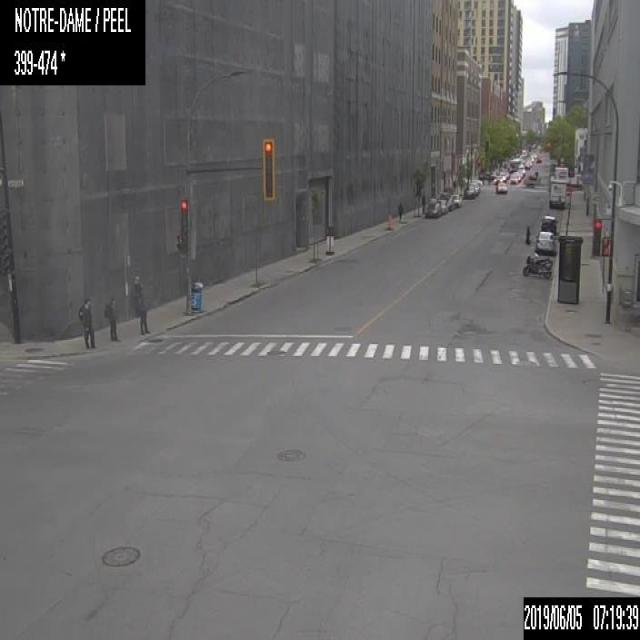bus: (508, 157, 522, 171)
construction: (324, 224, 334, 254), (387, 212, 392, 228)
pedestrian: (79, 297, 95, 348), (134, 278, 148, 334), (105, 295, 116, 340), (525, 223, 531, 243), (397, 200, 403, 219), (420, 191, 425, 212)
vehicle: (549, 165, 582, 188), (522, 254, 552, 277), (534, 230, 555, 254), (548, 181, 566, 208), (522, 169, 538, 186), (541, 214, 556, 232), (440, 192, 454, 211), (426, 201, 442, 217), (437, 198, 448, 214), (469, 181, 479, 195), (495, 181, 507, 192), (451, 193, 461, 206), (464, 185, 474, 197), (494, 174, 502, 183), (509, 174, 517, 183), (517, 168, 525, 176), (513, 172, 520, 180), (502, 170, 509, 178), (499, 173, 506, 180), (524, 162, 529, 168)
